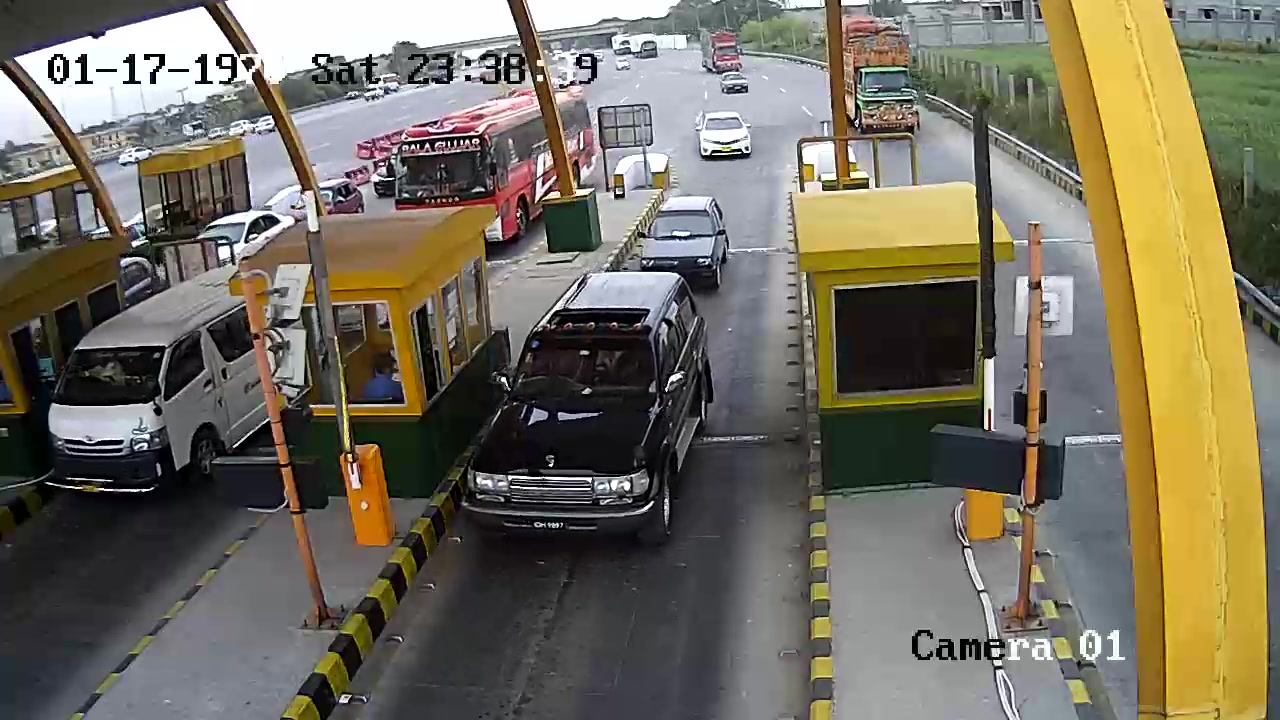F1: (455, 270, 731, 557), (637, 185, 738, 290)
